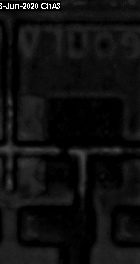led: (45, 98, 123, 187)
